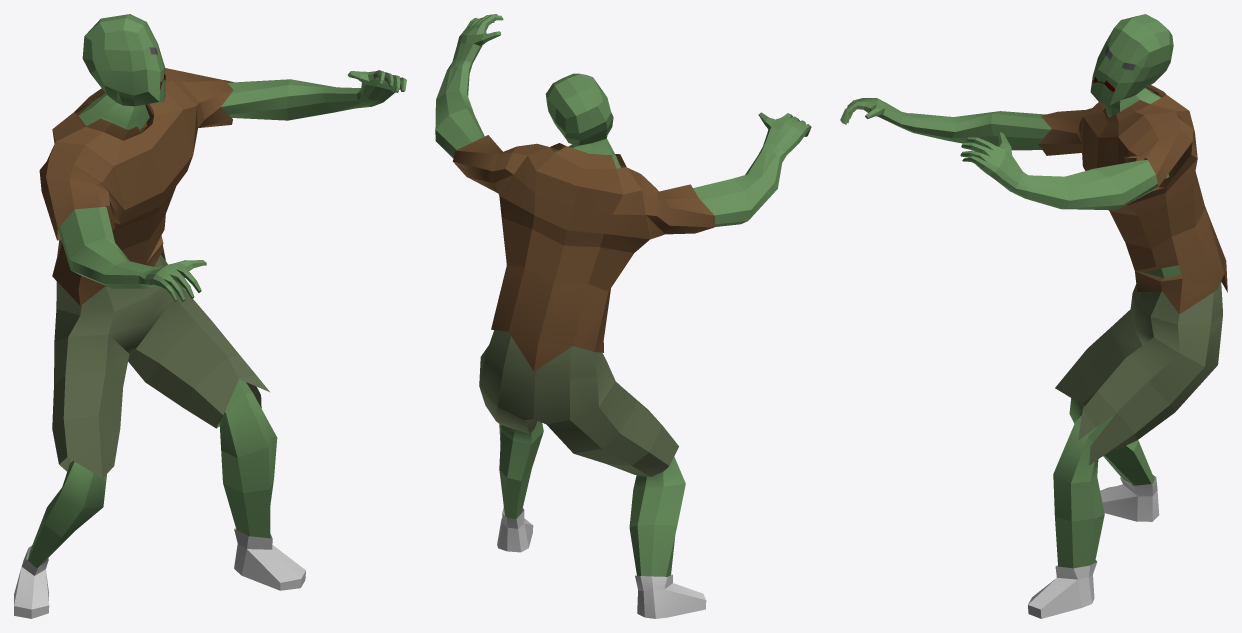
Rendered from ZombieAttack(91).obj.
3 views of the same model, side by side, from view 1: azimuth 30°, elevation 25°; view 2: azimuth 150°, elevation 25°; view 3: azimuth 270°, elevation 25° (orthographic). The views are drawn at different scales.
Parts seen in each view (by area): view 1: Object001; view 2: Object001; view 3: Object001.
Boxes of the visible parts, <box> form: Object001: <box>14,14,406,618</box>; Object001: <box>435,14,811,618</box>; Object001: <box>840,14,1227,618</box>.
Bounding box in the file's own units: 33.01 × 54.14 × 35.3.
